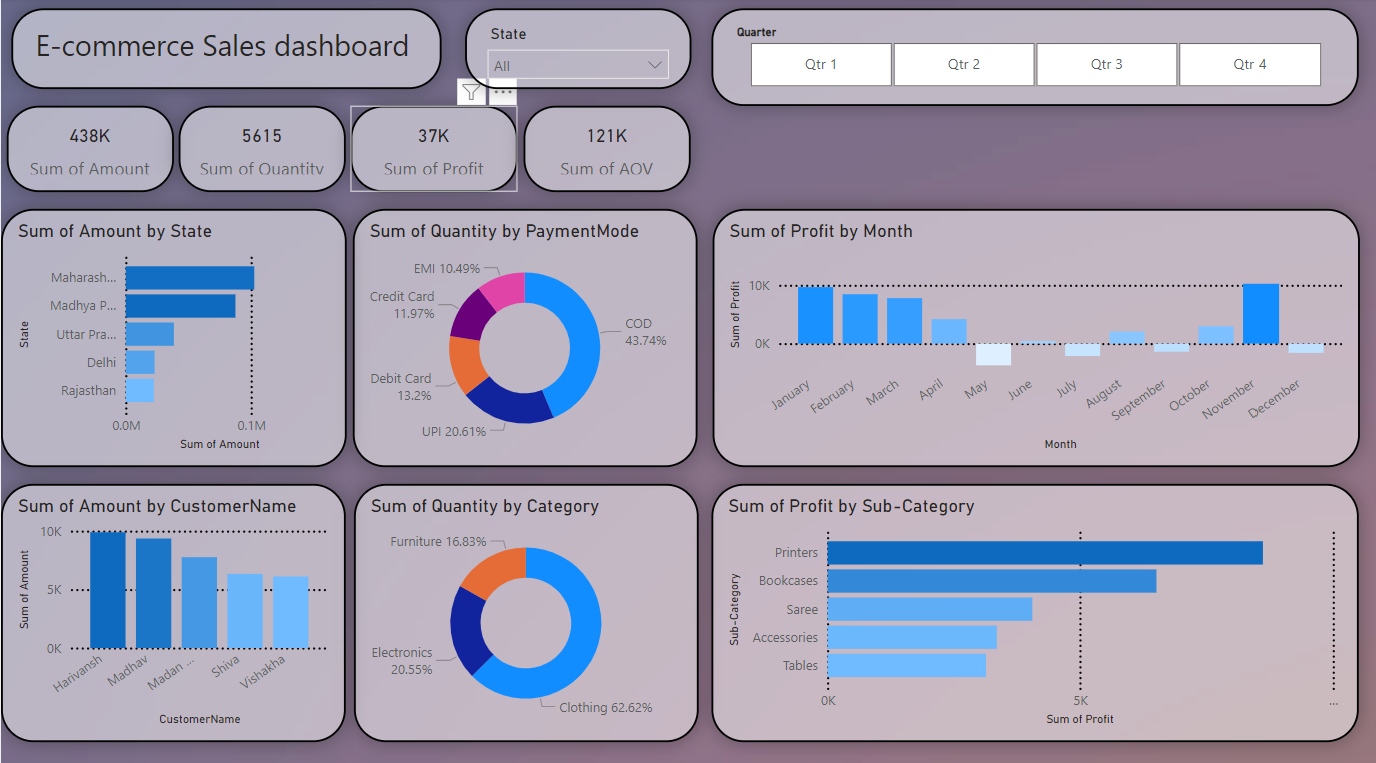

This screenshot's page, from the dashboard's own definition file:
{"tool":"powerbi","page":{"name":"Page 1","canvas":[1280,720],"ordinal":0},"visuals":[{"type":"textbox","box":[10,10,400,75],"z":0},{"type":"columnChart","fields":{"Y":["Details.Profit"],"Category":["Orders.Order Date.Variation.Date Hierarchy.Month"]},"box":[660.9,195.6,600,239.8],"z":1000},{"type":"barChart","fields":{"Category":["Details.Sub-Category"],"Y":["Details.Profit"]},"box":[660,450.9,600,240],"z":2000},{"type":"donutChart","fields":{"Category":["Details.Category"],"Y":["Details.Quantity"]},"box":[328,450.9,320,240],"z":3000},{"type":"donutChart","fields":{"Category":["Details.PaymentMode"],"Y":["Details.Quantity"]},"box":[326.8,195.6,320,240],"z":4000},{"type":"card","fields":{"Values":["Details.Amount"]},"box":[5,100,155,80],"z":5000},{"type":"card","fields":{"Values":["Details.Quantity"]},"box":[165,100,155,80],"z":6000},{"type":"card","fields":{"Values":["Details.Profit"]},"box":[325,100,155,80],"z":7000},{"type":"card","fields":{"Values":["Details.AOV"]},"box":[485,100.2,155,80],"z":8000},{"type":"barChart","fields":{"Category":["Orders.State"],"Y":["Details.Amount"]},"box":[0,195.6,320.9,240],"z":8001},{"type":"columnChart","fields":{"Y":["Details.Amount"],"Category":["Orders.CustomerName"]},"box":[0,450.9,320,240],"z":8002},{"type":"slicer","fields":{"Values":["Orders.Order Date.Variation.Date Hierarchy.Quarter"]},"box":[659.7,9.5,600,90.7],"z":8003},{"type":"slicer","fields":{"Values":["Orders.State"]},"box":[430.6,9.5,209.9,75.2],"z":8004}]}

Visuals, with their boxes in screenshot pixels (x1, y1, x2, y2), scaled from the page's 1280x720 canvas onto the 1376x763 screenshot:
textbox: 11,11,441,90
columnChart - Details.Profit x Orders.Order Date.Variation.Date Hierarchy.Month: 710,207,1355,461
barChart - Details.Sub-Category x Details.Profit: 710,478,1354,732
donutChart - Details.Category x Details.Quantity: 353,478,697,732
donutChart - Details.PaymentMode x Details.Quantity: 351,207,695,462
card - Details.Amount: 5,106,172,191
card - Details.Quantity: 177,106,344,191
card - Details.Profit: 349,106,516,191
card - Details.AOV: 521,106,688,191
barChart - Orders.State x Details.Amount: 0,207,345,462
columnChart - Details.Amount x Orders.CustomerName: 0,478,344,732
slicer - Orders.Order Date.Variation.Date Hierarchy.Quarter: 709,10,1354,106
slicer - Orders.State: 463,10,689,90
